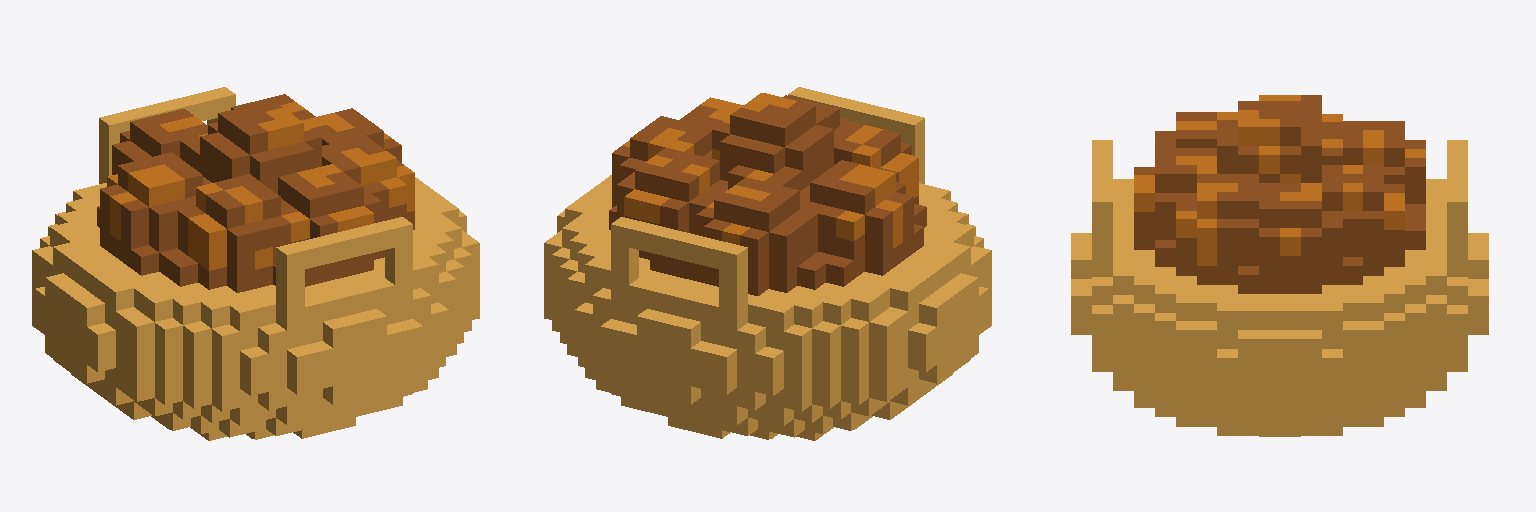
3 views of the same model, side by side, from view 1: azimuth 30°, elevation 25°; view 2: azimuth 150°, elevation 25°; view 3: azimuth 270°, elevation 25° (orthographic).
Visible parts, largest first — view 1: object 1; view 2: object 1; view 3: object 1.
Boxes of the visible parts, box(x1,y1,x2,y2) form: object 1: box(32, 87, 479, 440); object 1: box(544, 87, 991, 440); object 1: box(1071, 95, 1488, 436).
Bounding box in the file's own units: 2.1 × 1.5 × 2.
1 materials, 1 textured.